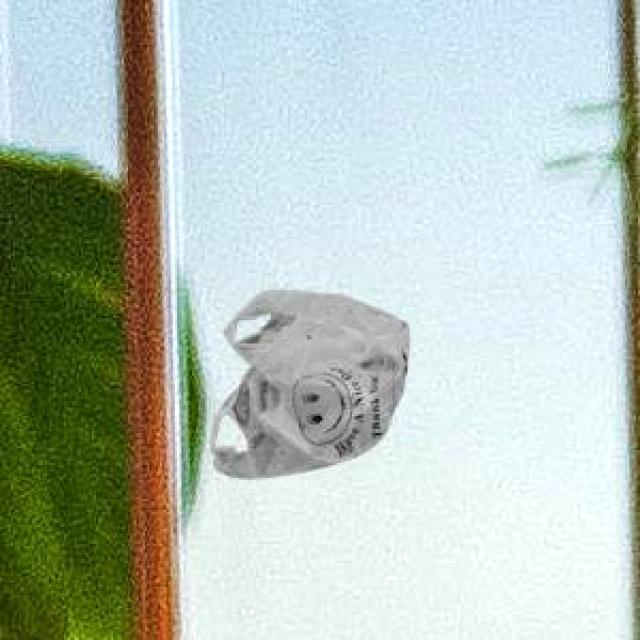Plastic_Bag: (208, 287, 406, 475)
